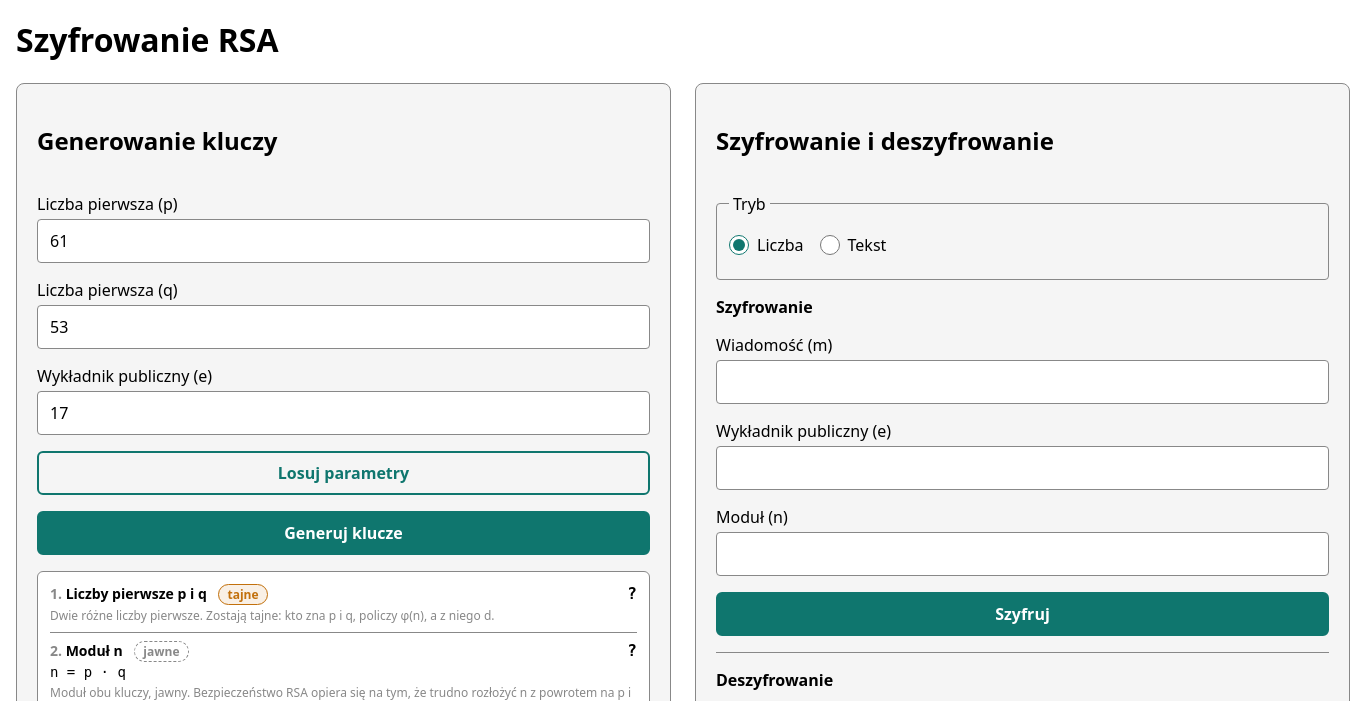
generowanie kluczy krok po kroku › dla 61, 53, 17 pokazuje całą sekwencję z podstawionymi wartościami
Click the button "Generuj klucze" at coordinates (344, 533), box x1=37 y1=511 x2=650 y2=555
(page scrolled)
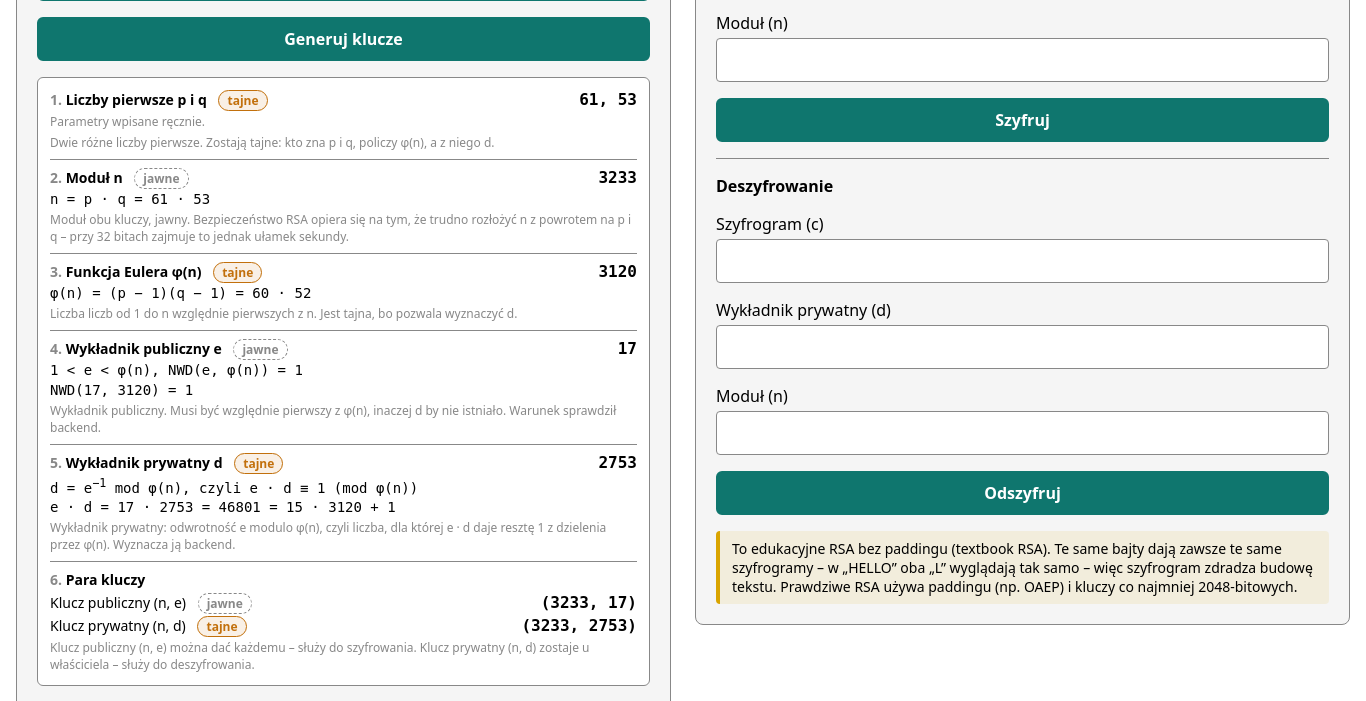
Now the list named "Kroki generowania kluczy" shows "61, 53", box x1=579 y1=90 x2=637 y2=109
Now the list named "Kroki generowania kluczy" shows "n = p · q = 61 · 53", box x1=37 y1=77 x2=650 y2=686
Now the list named "Kroki generowania kluczy" shows "φ(n) = (p − 1)(q − 1) = 60 · 52", box x1=37 y1=77 x2=650 y2=686
